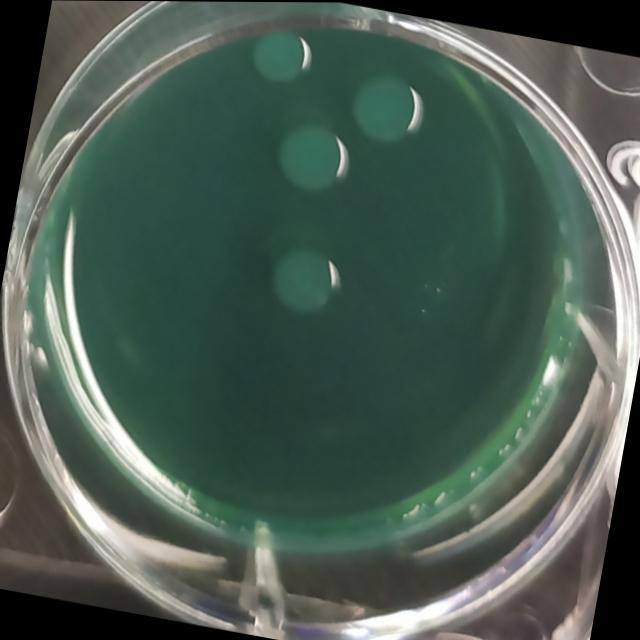vibrio: (259, 111, 360, 206), (342, 63, 436, 155), (259, 235, 351, 325), (238, 11, 318, 93)
